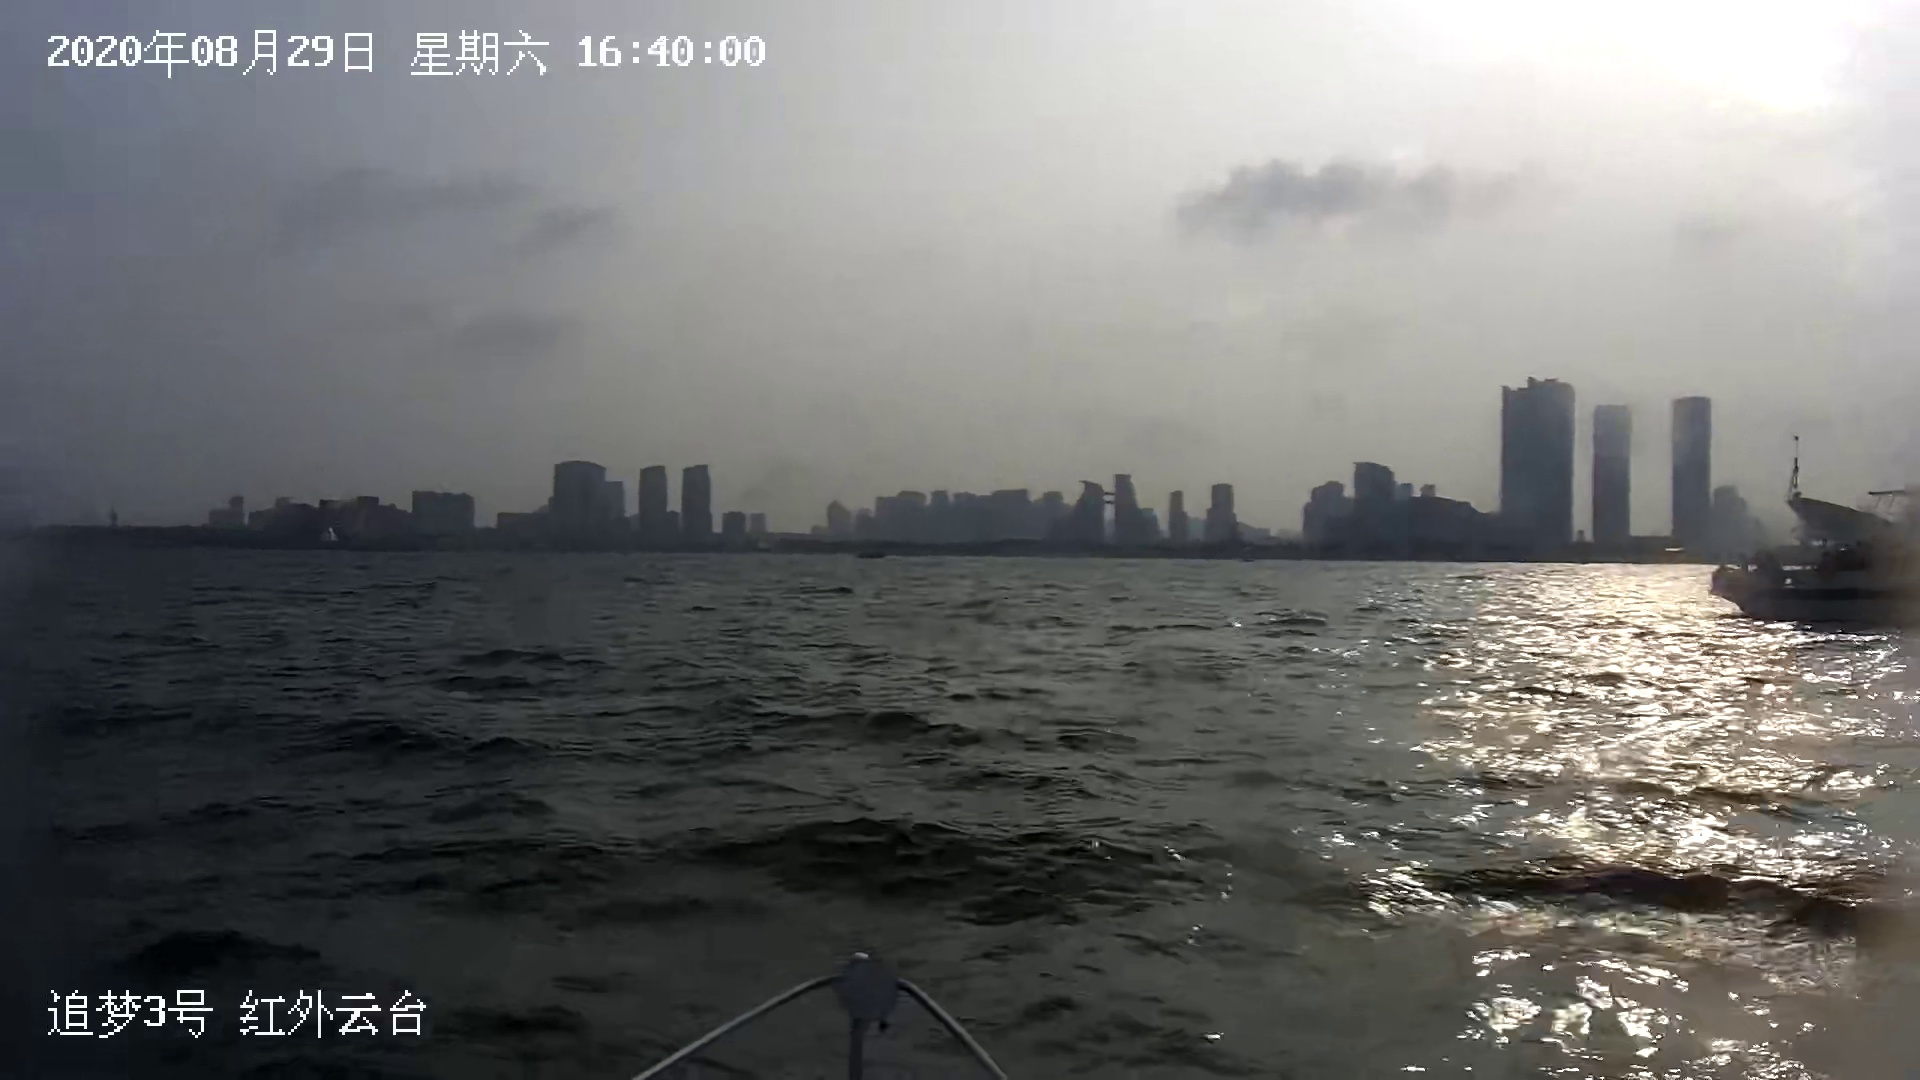barrier: (1705, 429, 1920, 630)
coast: (36, 363, 1920, 549)
